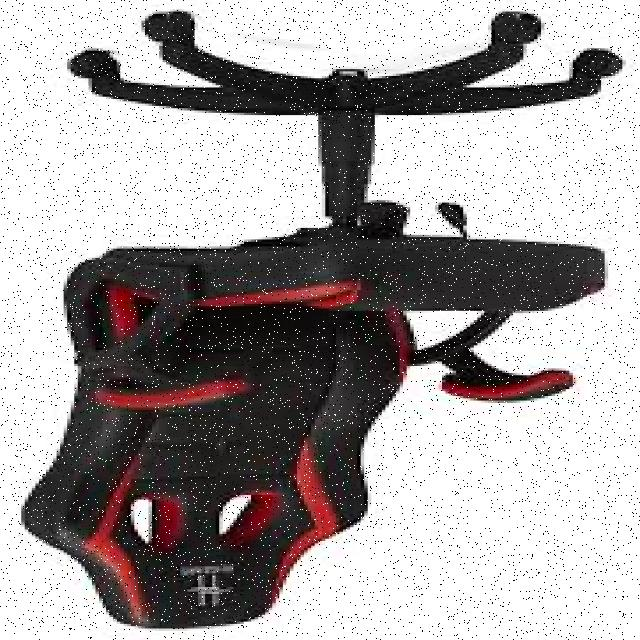bottle: (21, 10, 623, 630)
